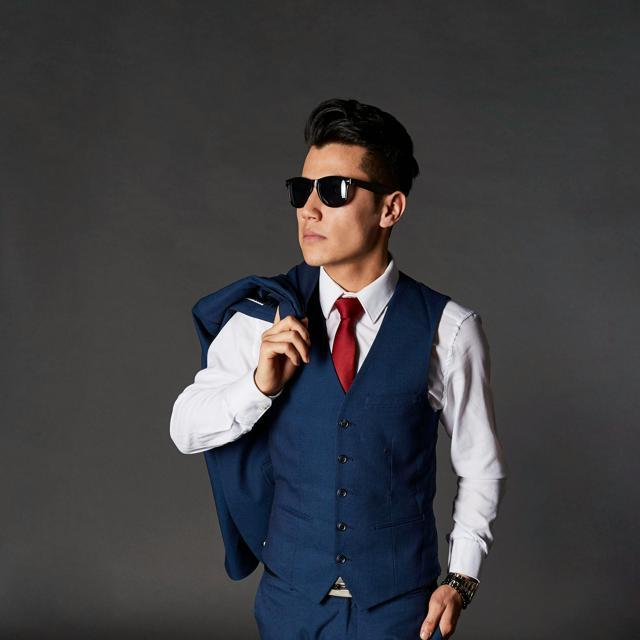2_gafas: (284, 174, 393, 208)
